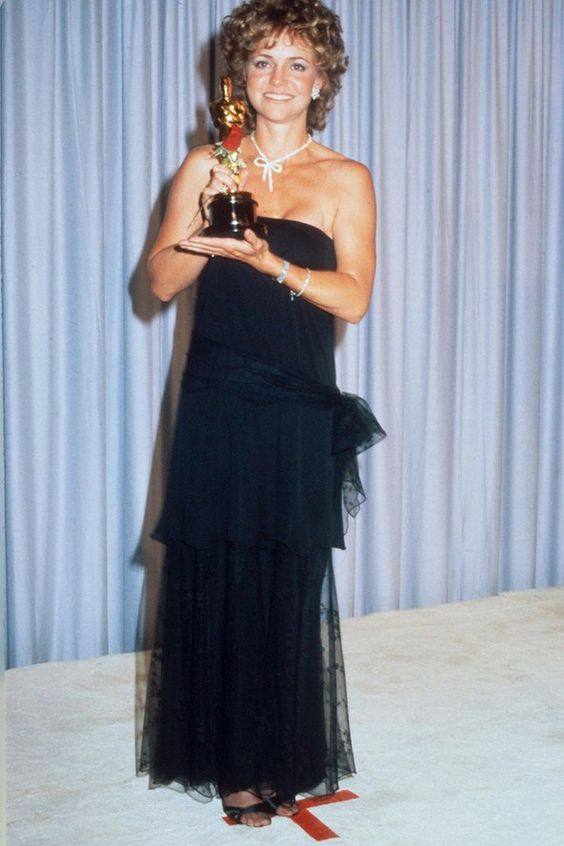hand: (183, 232, 263, 262)
